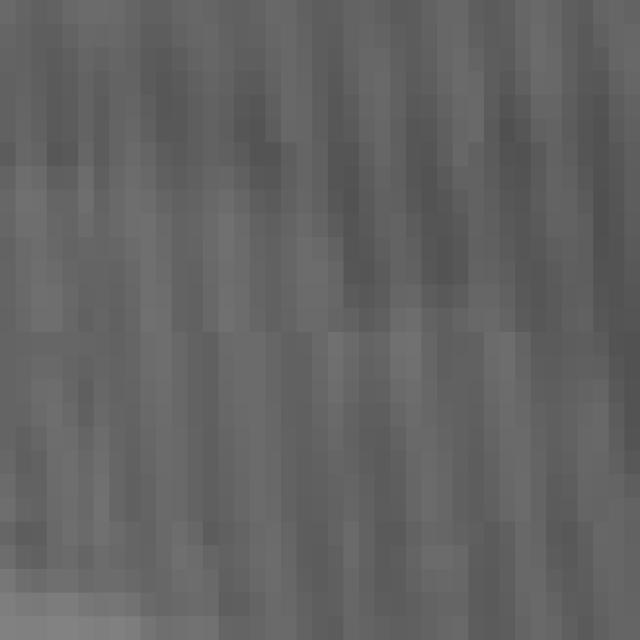fracture: (11, 5, 640, 640)
